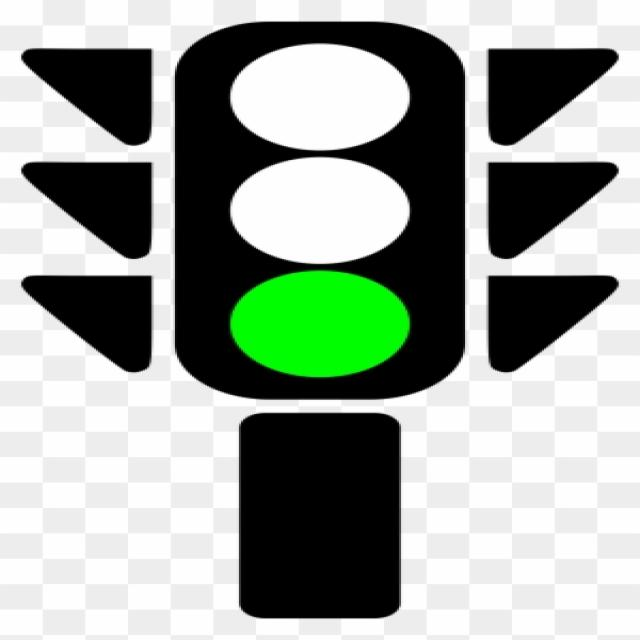green: (232, 268, 419, 376)
